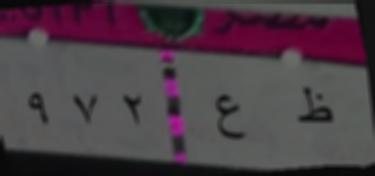2: (120, 84, 152, 137)
7: (70, 84, 103, 135)
9: (22, 83, 59, 136)
Thaa: (296, 85, 334, 134)
ain: (211, 88, 247, 146)
